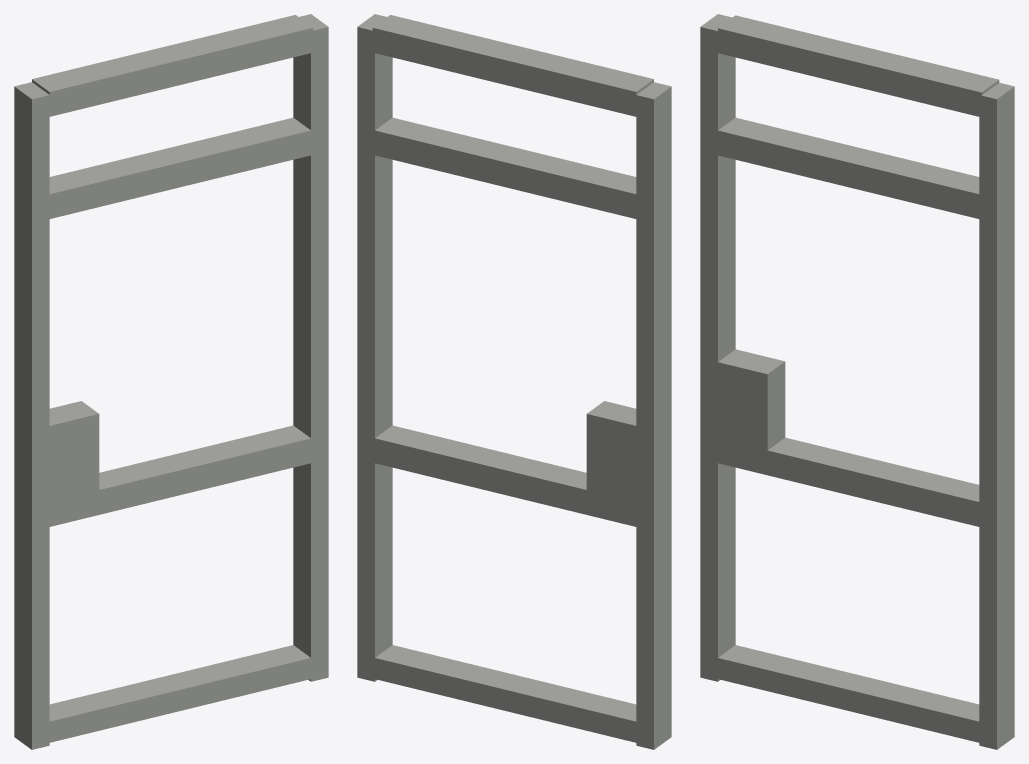
Rendered from marcos.obj.
The picture shows the model from 3 angles, left to right: view 1: azimuth 30°, elevation 25°; view 2: azimuth 150°, elevation 25°; view 3: azimuth 330°, elevation 25°; orthographic projection.
Parts seen in each view (by area): view 1: MarcosPuerta1:pCube40, MarcosPuerta1:pCube31, MarcosPuerta1:pCube30, MarcosPuerta1:pCube33, MarcosPuerta1:pCube32; view 2: MarcosPuerta1:pCube40, MarcosPuerta1:pCube31, MarcosPuerta1:pCube30, MarcosPuerta1:pCube33, MarcosPuerta1:pCube32; view 3: MarcosPuerta1:pCube40, MarcosPuerta1:pCube30, MarcosPuerta1:pCube31, MarcosPuerta1:pCube33, MarcosPuerta1:pCube32.
Boxes of the visible parts, <box> form: MarcosPuerta1:pCube40: <box>48,117,313,526</box>; MarcosPuerta1:pCube31: <box>14,82,49,749</box>; MarcosPuerta1:pCube30: <box>293,14,328,681</box>; MarcosPuerta1:pCube33: <box>32,15,313,116</box>; MarcosPuerta1:pCube32: <box>49,645,313,742</box>; MarcosPuerta1:pCube40: <box>372,117,637,526</box>; MarcosPuerta1:pCube31: <box>636,82,671,749</box>; MarcosPuerta1:pCube30: <box>357,14,392,681</box>; MarcosPuerta1:pCube33: <box>372,15,653,116</box>; MarcosPuerta1:pCube32: <box>372,645,636,742</box>; MarcosPuerta1:pCube40: <box>717,117,981,527</box>; MarcosPuerta1:pCube30: <box>979,82,1014,749</box>; MarcosPuerta1:pCube31: <box>700,14,735,681</box>; MarcosPuerta1:pCube33: <box>718,15,999,117</box>; MarcosPuerta1:pCube32: <box>718,645,981,743</box>.
Bounding box in the file's own units: 1.32 × 2.77 × 0.1356.
1 material, 1 textured.
